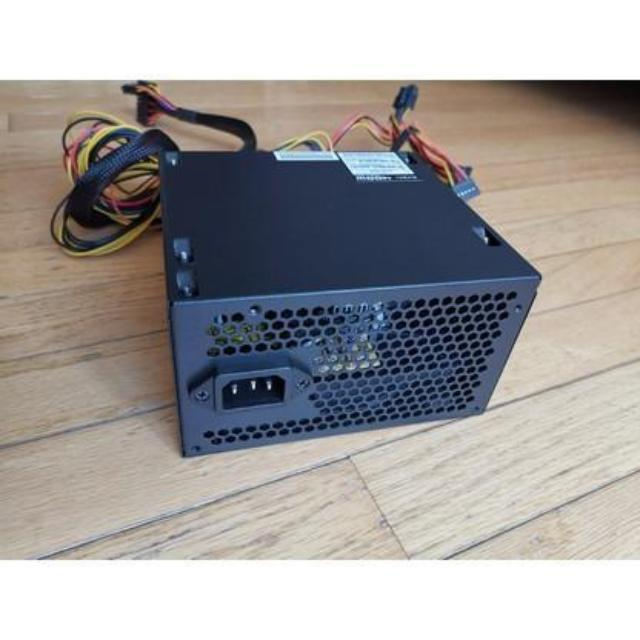PSU: (151, 130, 540, 468)
